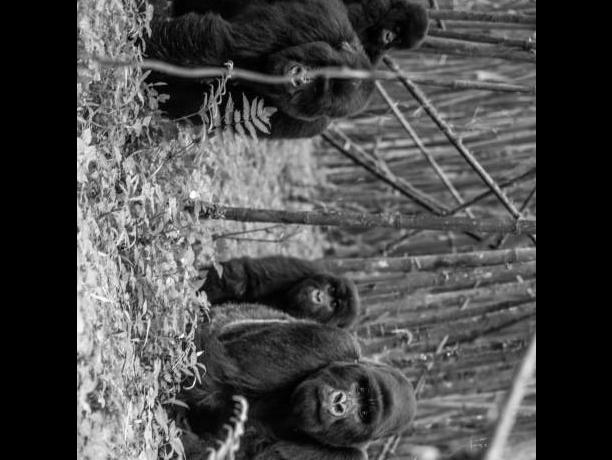goriile_montagne: (137, 0, 372, 148), (183, 319, 429, 460), (214, 258, 374, 335), (346, 0, 438, 67)
